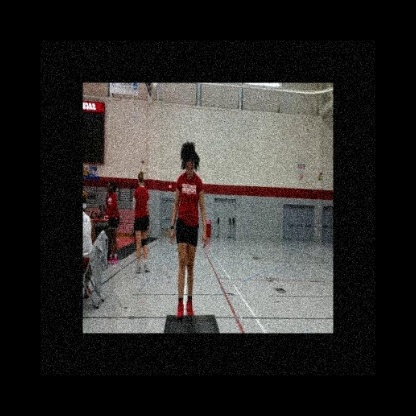lateral_flexion_right: (170, 140, 208, 323)
stance_width_narrow: (169, 170, 208, 323)
